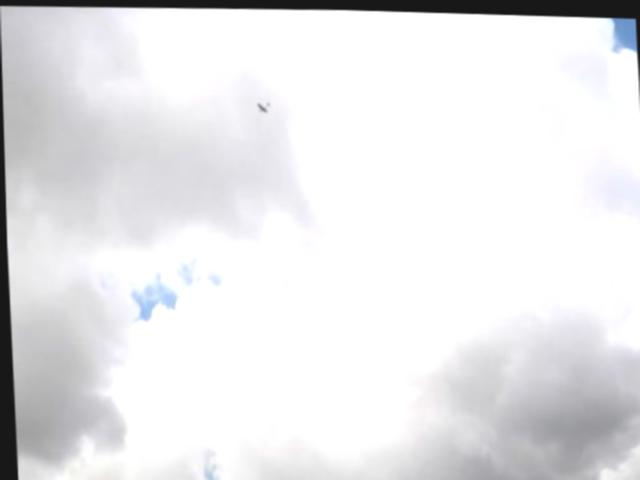iha: (251, 95, 274, 117)
